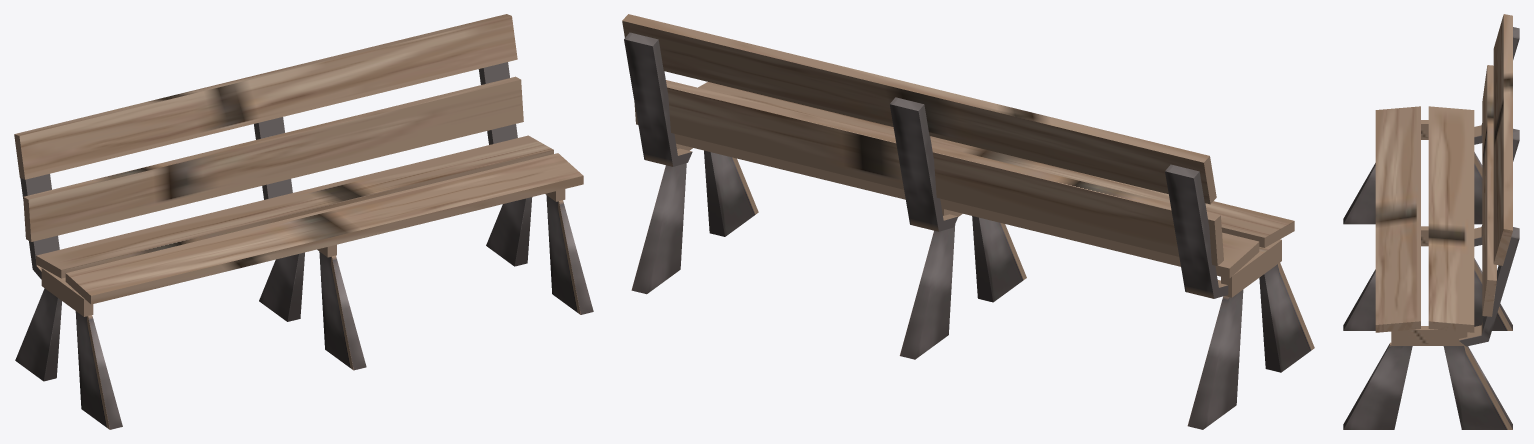
File: banco.fbx
The picture shows the model from 3 angles, left to right: view 1: azimuth 30°, elevation 25°; view 2: azimuth 150°, elevation 25°; view 3: azimuth 270°, elevation 25°; orthographic projection. The views are drawn at different scales.
Parts seen in each view (by area): view 1: bancoMadeira; view 2: bancoMadeira; view 3: bancoMadeira.
Part boxes in pixels (x1=…): bancoMadeira: x1=14, y1=14, x2=593, y2=429; bancoMadeira: x1=622, y1=14, x2=1314, y2=429; bancoMadeira: x1=1343, y1=14, x2=1519, y2=429.
Size of the model in its own units: 1238 by 549 by 429.
